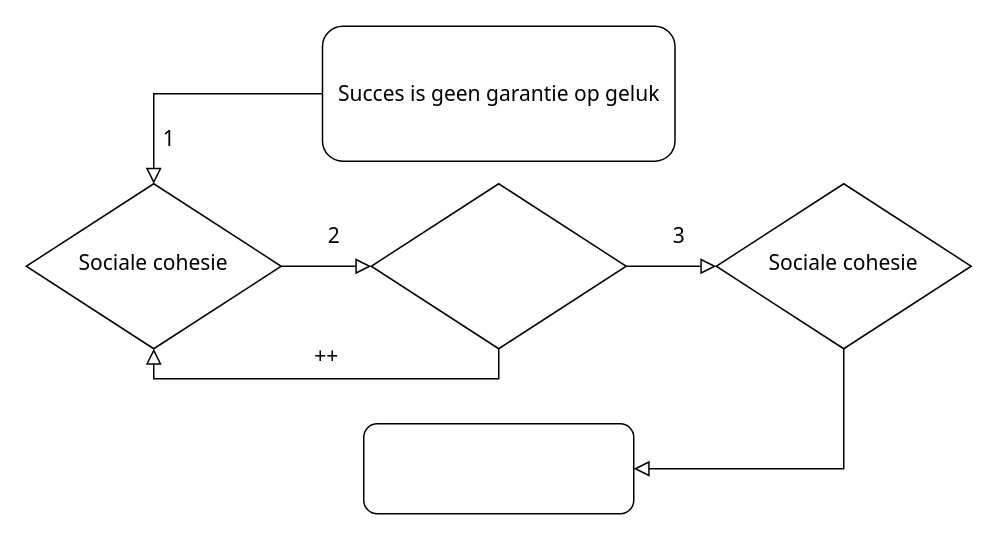
This 998x540 diagram has some shape labels left out. Here are the shapes that lost their labels. From the top down, the box of each, then its label:
(370, 182, 626, 349): Identiteit
(362, 422, 634, 514): Leren vanuit je hart
